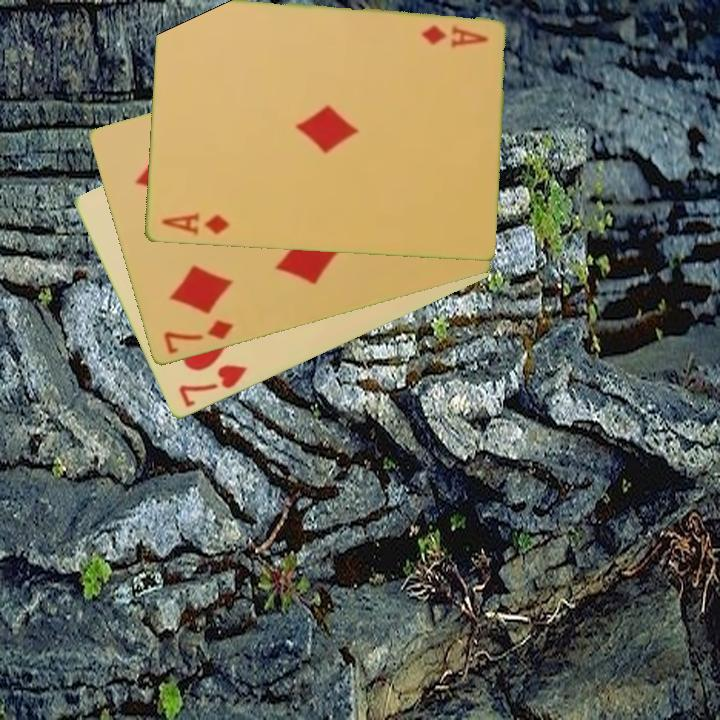7d: (160, 316, 236, 358)
7h: (175, 361, 250, 411)
Ad: (158, 210, 232, 239), (418, 22, 491, 50)
